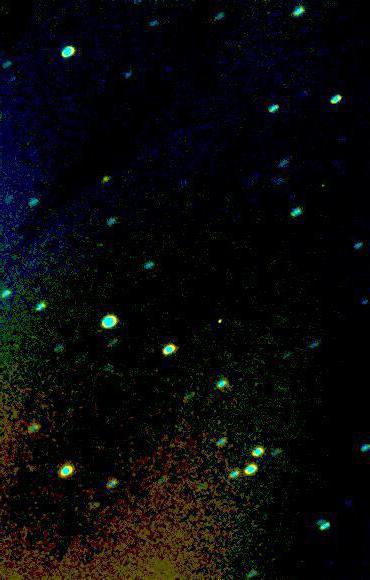star: (87, 166, 117, 196)
